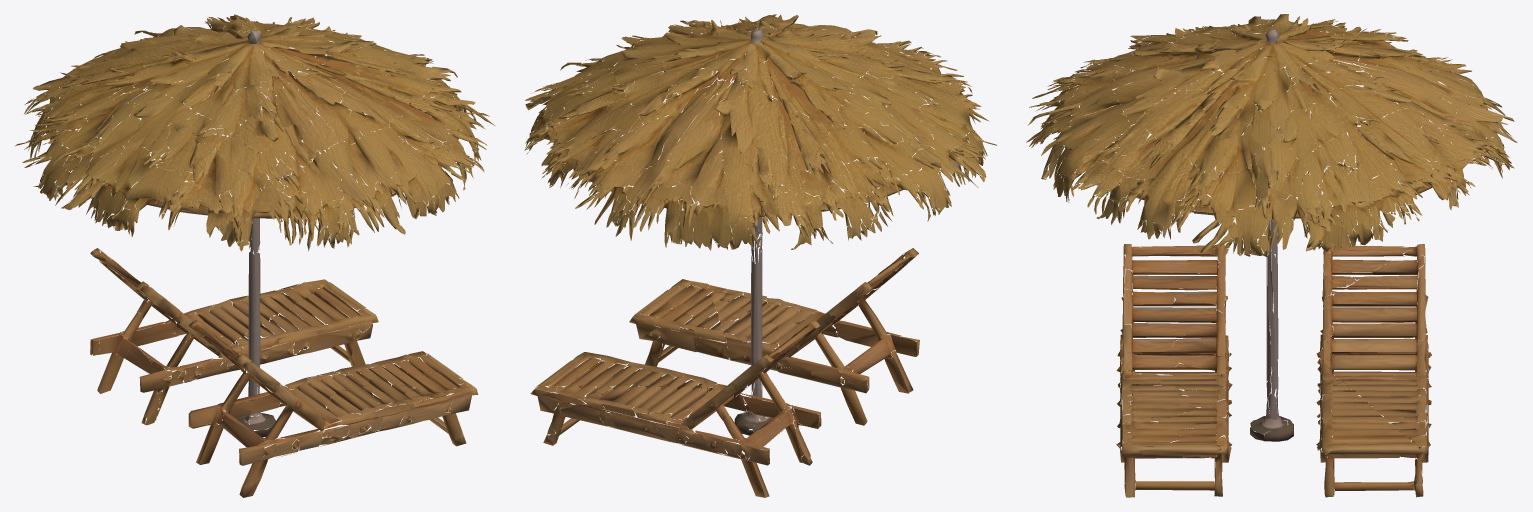
The model's file is umbrella.glb.
3 views of the same model, side by side, from view 1: azimuth 30°, elevation 25°; view 2: azimuth 150°, elevation 25°; view 3: azimuth 270°, elevation 25° (orthographic).
Parts seen in each view (by area): view 1: tripo_node_330238ff-4ea6-496f-9643-4597e36ff01e; view 2: tripo_node_330238ff-4ea6-496f-9643-4597e36ff01e; view 3: tripo_node_330238ff-4ea6-496f-9643-4597e36ff01e.
Boxes of the visible parts, x1=… form: tripo_node_330238ff-4ea6-496f-9643-4597e36ff01e: x1=14, y1=14, x2=495, y2=497; tripo_node_330238ff-4ea6-496f-9643-4597e36ff01e: x1=524, y1=14, x2=996, y2=497; tripo_node_330238ff-4ea6-496f-9643-4597e36ff01e: x1=1026, y1=14, x2=1517, y2=497.
Size of the model in its own units: 0.9972 by 0.8926 by 0.9902.
1 material, 1 textured.
